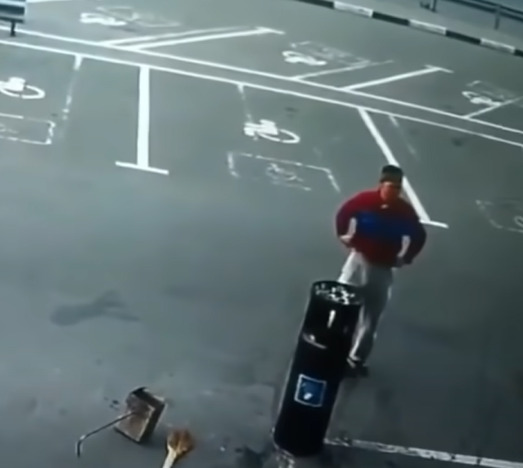person: (328, 162, 428, 379)
